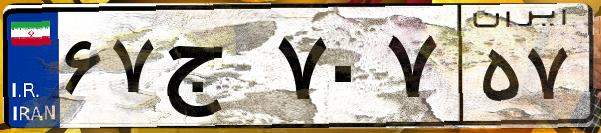0: (330, 28, 385, 110)
5: (475, 38, 525, 113)
6: (57, 26, 110, 100)
7: (270, 28, 330, 110), (385, 28, 445, 110), (525, 38, 570, 115), (110, 28, 158, 98)
ج: (158, 20, 270, 120)
